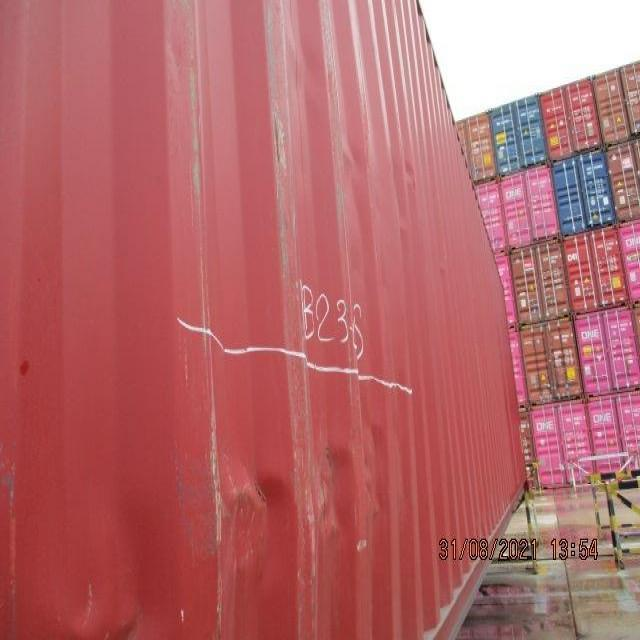dent: (166, 396, 421, 608), (328, 125, 430, 260)
